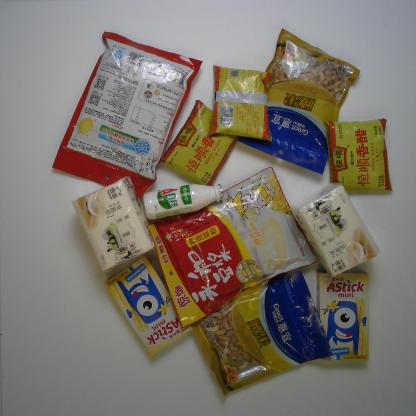Dessert: (103, 254, 194, 357), (312, 268, 372, 364)
Dried Fruit: (190, 268, 338, 399), (237, 24, 362, 176)
Instant Drink: (146, 164, 319, 330), (49, 29, 206, 197)
Milk: (142, 183, 225, 221)
Seasoner: (159, 98, 238, 186), (321, 115, 394, 194), (204, 62, 274, 143)
Tissue: (288, 180, 382, 279), (70, 175, 156, 274)
